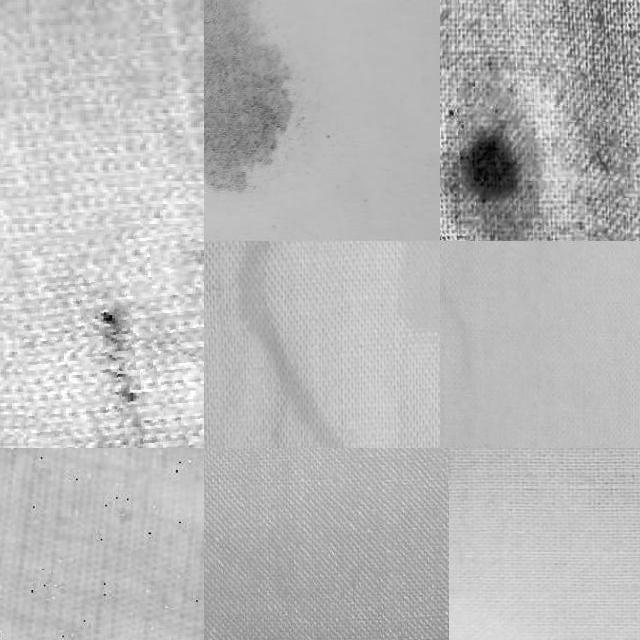Thread_other: (204, 0, 317, 203), (440, 85, 565, 240)
stains: (17, 224, 204, 448)
